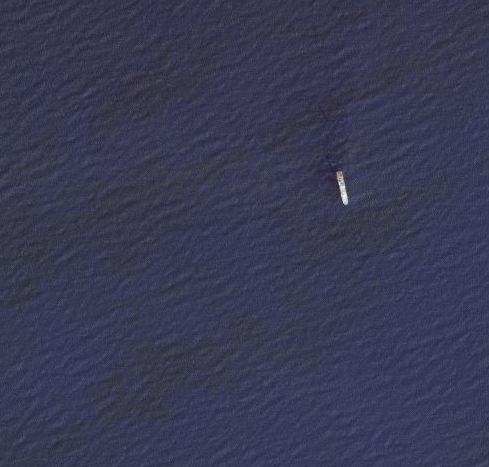ship: (331, 166, 355, 212)
